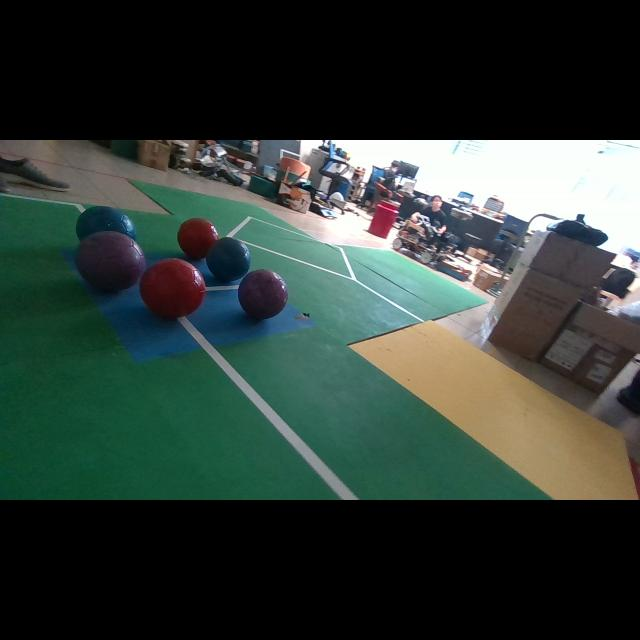B: (76, 206, 136, 240), (206, 238, 251, 282)
P: (76, 231, 146, 291), (238, 269, 288, 320)
R: (140, 259, 206, 318), (178, 218, 219, 259)
